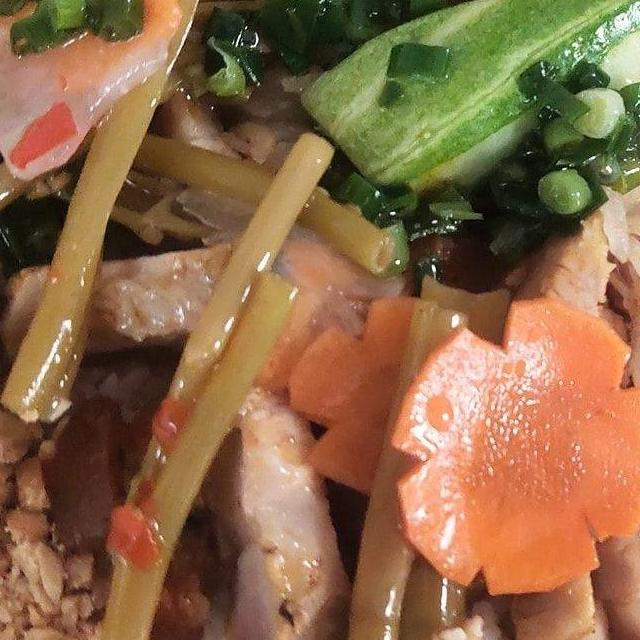dua chua: (76, 121, 404, 640), (280, 273, 640, 640), (0, 0, 234, 429)
suon: (0, 217, 420, 387), (206, 386, 379, 640)
